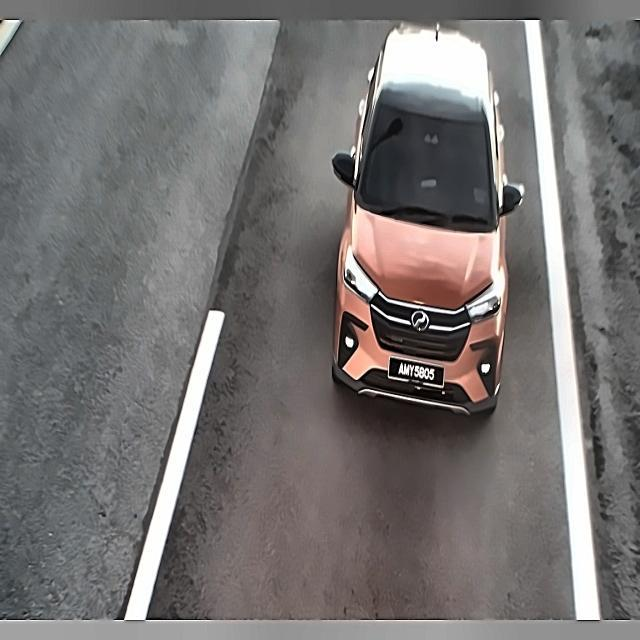car: (389, 355, 446, 394)
